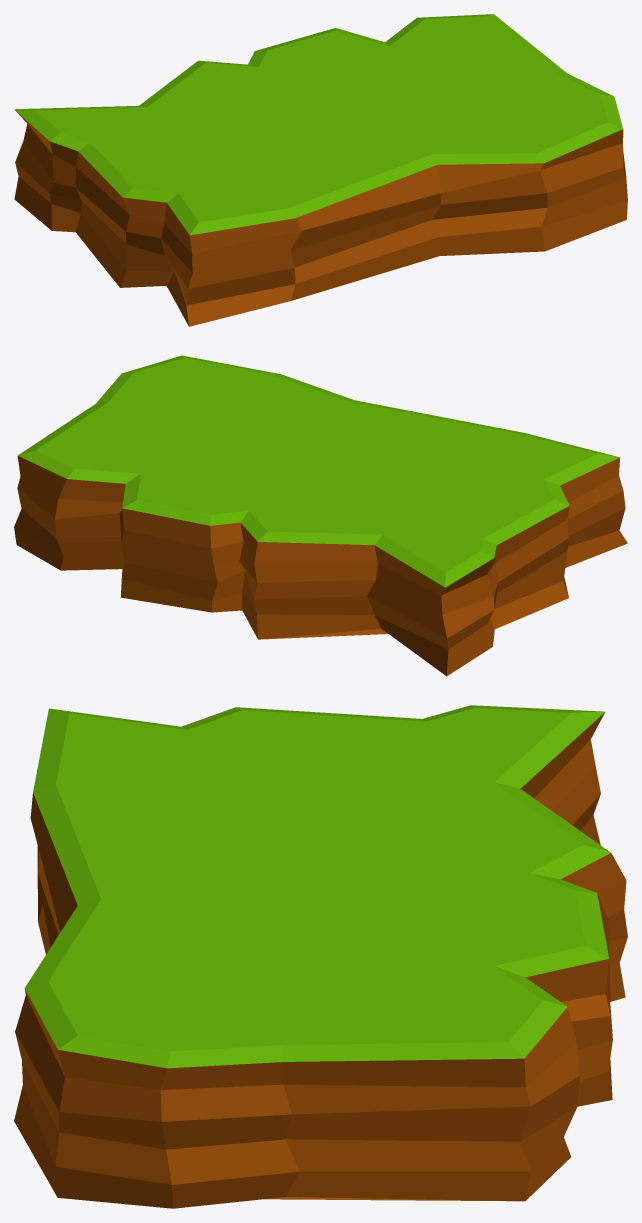
The model's file is land_square_04.fbx.
3 renders of one model, top to bottom at view 1: azimuth 30°, elevation 25°; view 2: azimuth 150°, elevation 25°; view 3: azimuth 270°, elevation 25°, orthographic. The views are drawn at different scales.
Visible parts, largest first — view 1: Plane.006; view 2: Plane.006; view 3: Plane.006.
Part boxes in pixels (<box>): Plane.006: <box>14,14,627,326</box>; Plane.006: <box>14,355,627,676</box>; Plane.006: <box>14,705,627,1208</box>.
Size of the model in its own units: 1907 by 389 by 1343.
Materials: 1 (1 with a texture image).
